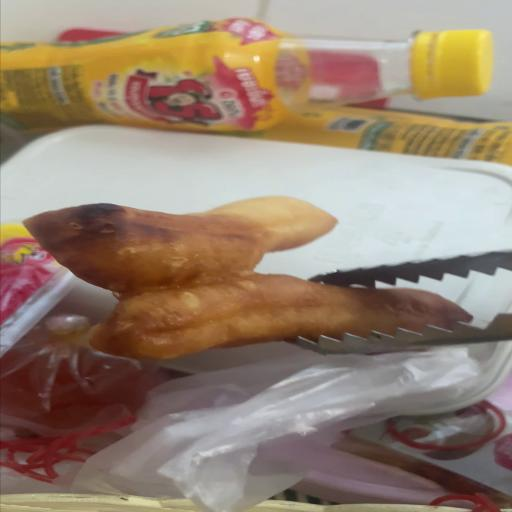street_golden_good: (21, 196, 474, 358)
